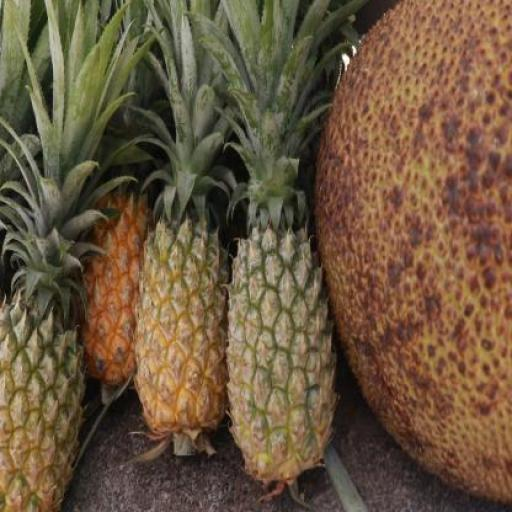------------------------------: (0, 315, 92, 510)
Pineapple - v8 v1: (136, 214, 230, 432), (79, 177, 156, 383)
